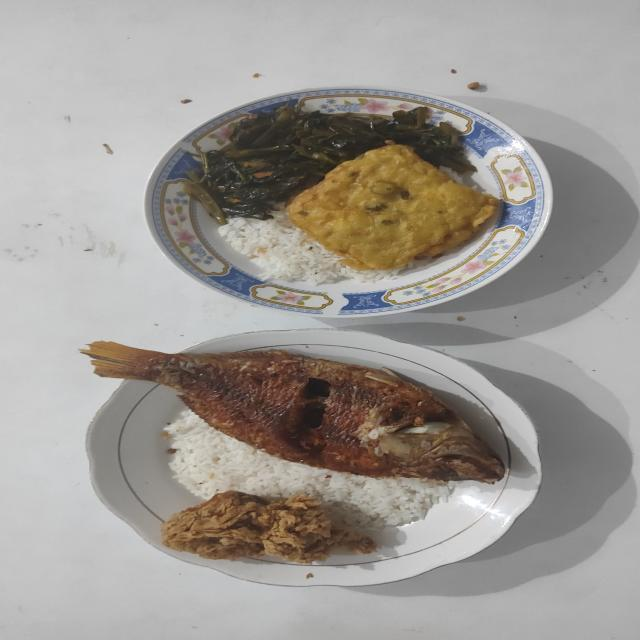ikan_mujair: (82, 342, 504, 482)
nasi_putih: (168, 408, 456, 530), (220, 210, 398, 286)
tumis_kangkung: (184, 101, 474, 224)
